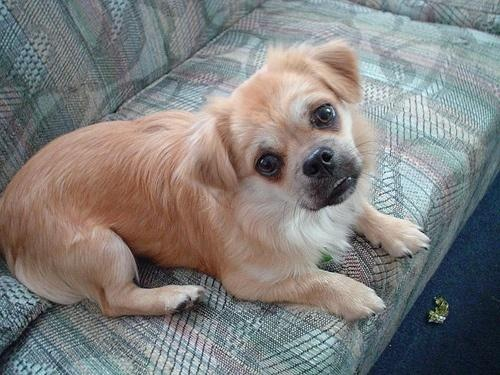dog: (3, 40, 433, 322)
sofa: (3, 2, 499, 373)
